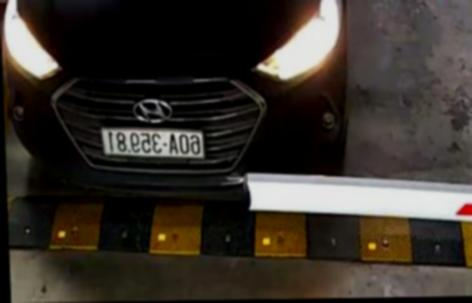License_Plate: (99, 118, 211, 164)
